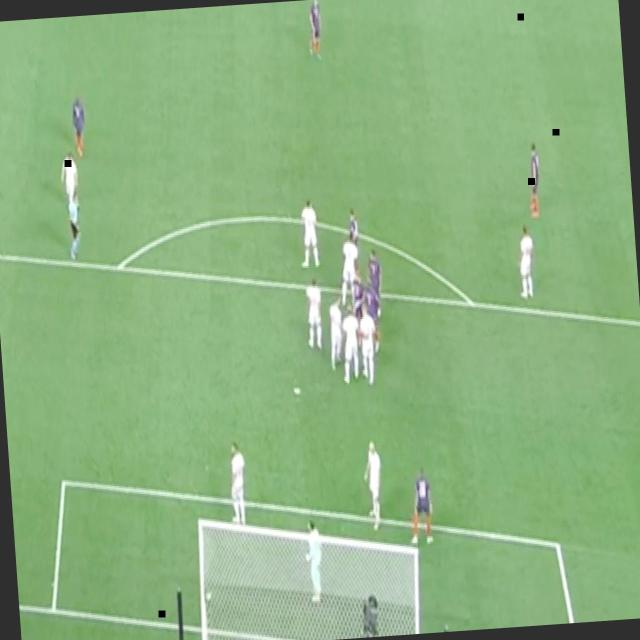player-white: (354, 277, 386, 355), (360, 440, 386, 533), (406, 467, 436, 547), (512, 223, 538, 302), (339, 302, 363, 386), (302, 520, 326, 604), (227, 441, 250, 526), (337, 233, 363, 308), (358, 302, 380, 388), (296, 198, 321, 269), (525, 138, 545, 224), (303, 276, 325, 351), (327, 295, 348, 372), (366, 246, 386, 318), (351, 261, 372, 323), (65, 190, 83, 261), (59, 150, 81, 208), (69, 92, 88, 158), (306, 0, 326, 60), (347, 208, 363, 274)
